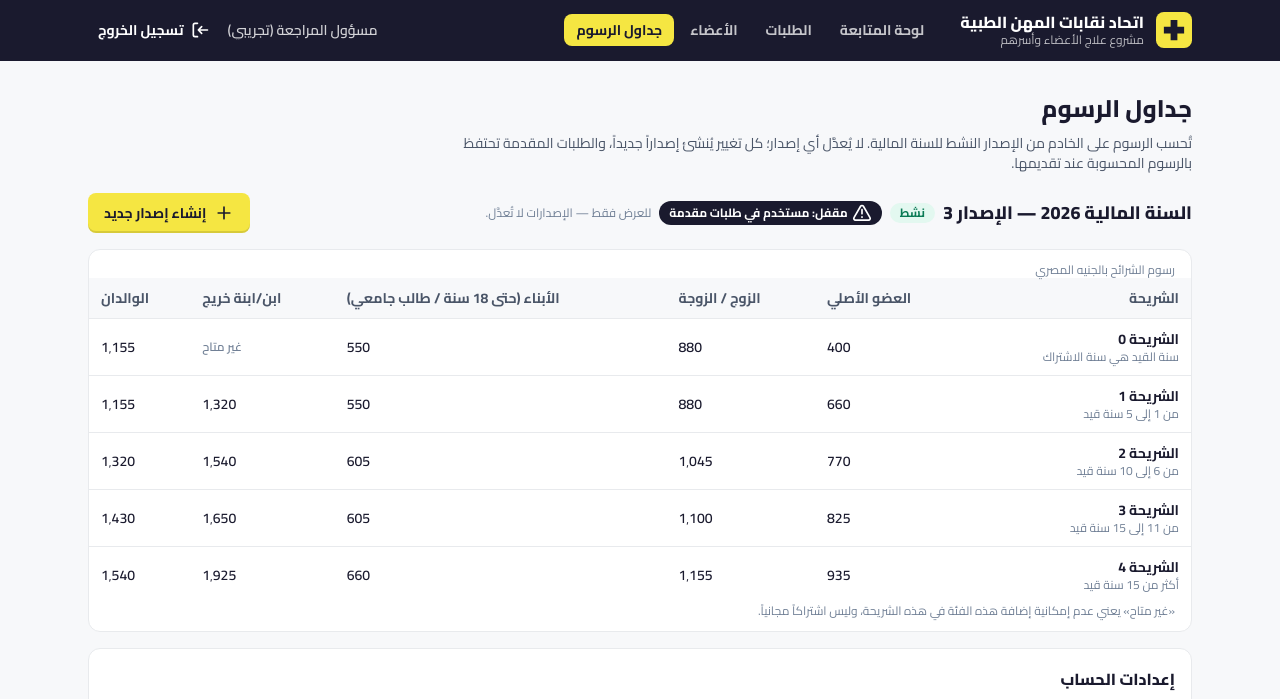
it: AdminFeeSchedulesPage (PROMPT.md §17.1, §44) › refuses a non-numeric amount before asking for confirmation
The width and height of the screenshot is (1280, 699).
expect the heading "جداول الرسوم" is shown: met, box 1041,86 -> 1192,131
expect the table named "الإصدار 3" is shown: met, box 89,250 -> 1191,603
Click the button "إنشاء إصدار جديد" at coordinates (169, 213), box 88,193 -> 250,233
(page scrolled)
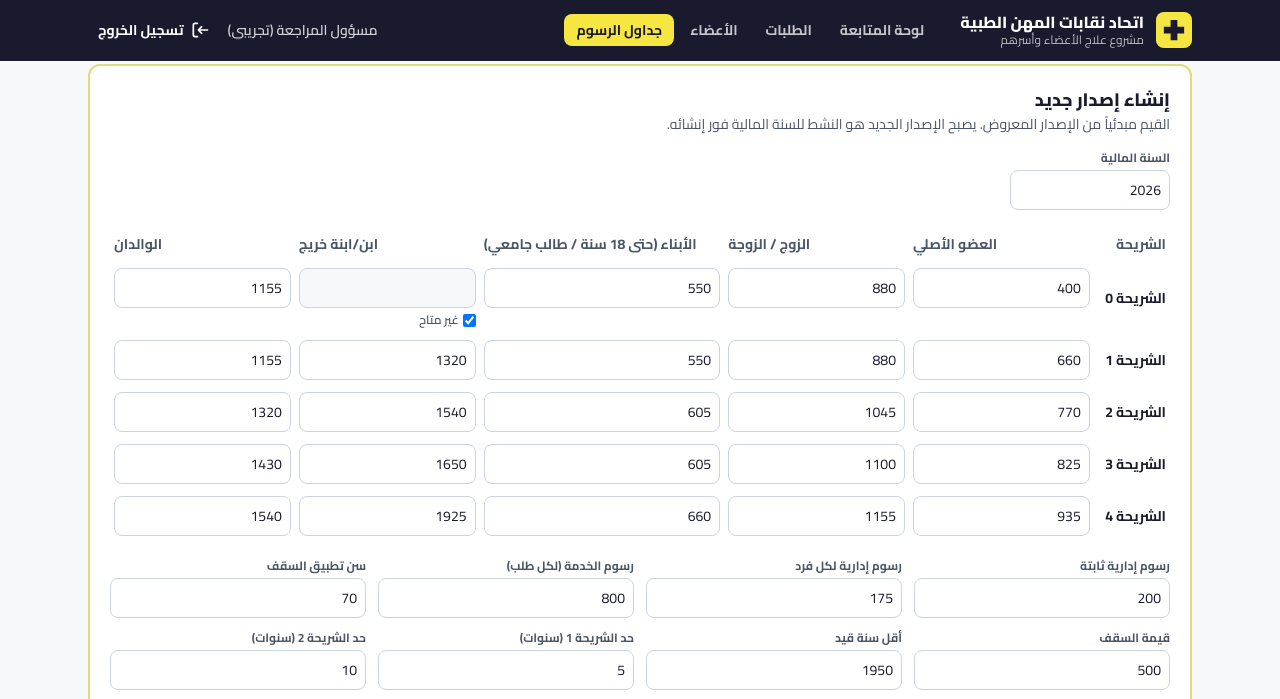
Clear the 8th field named "الشريحة 1 — الأبناء (حتى 18 سنة / طالب جامعي)" at coordinates (602, 360), box 484,340 -> 720,380
(page scrolled)
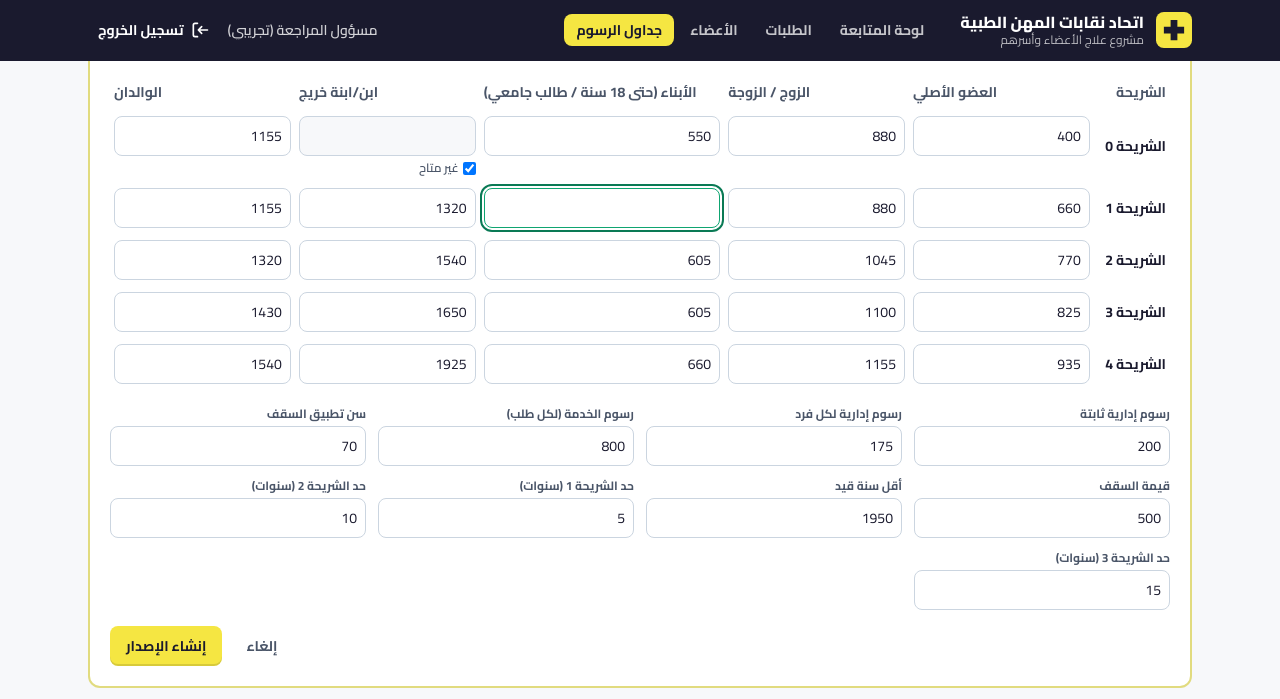
Click the button "إنشاء الإصدار" at coordinates (166, 646), box 110,626 -> 222,666
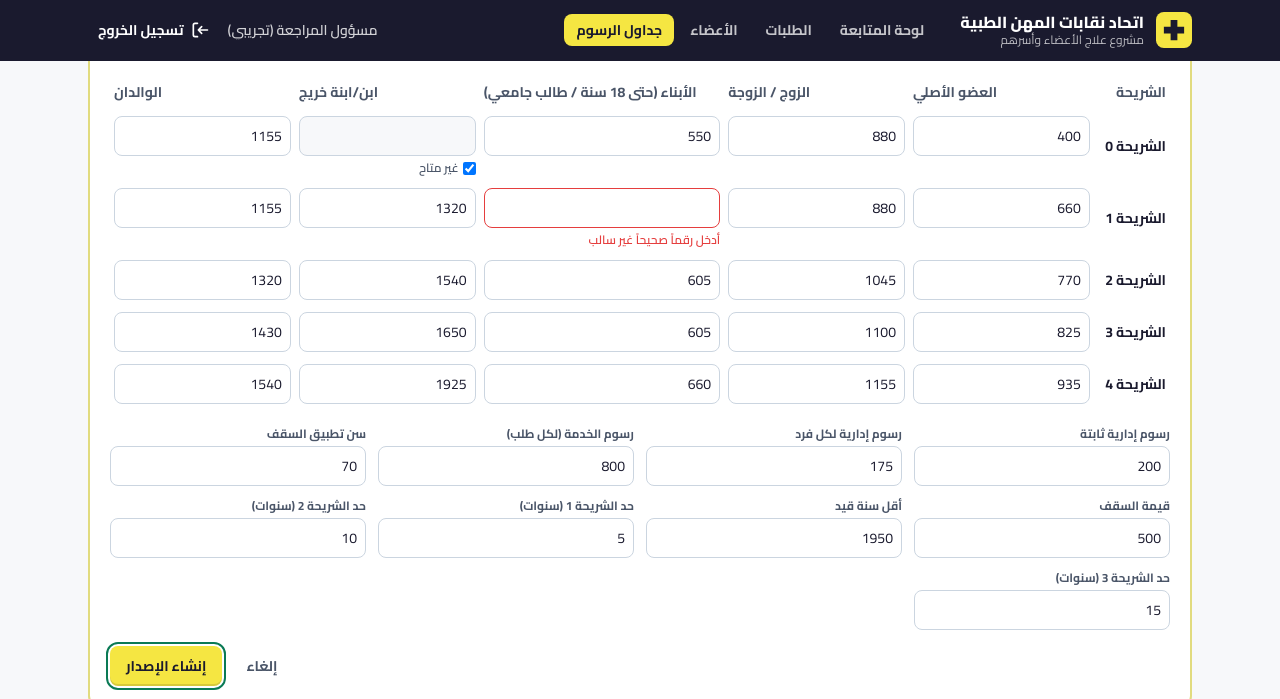
expect the text "أدخل رقماً صحيحاً غير سالب" is shown: met, box 588,228 -> 720,251
